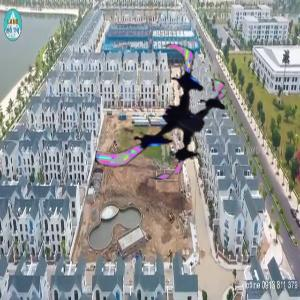drone: (101, 42, 245, 186)
